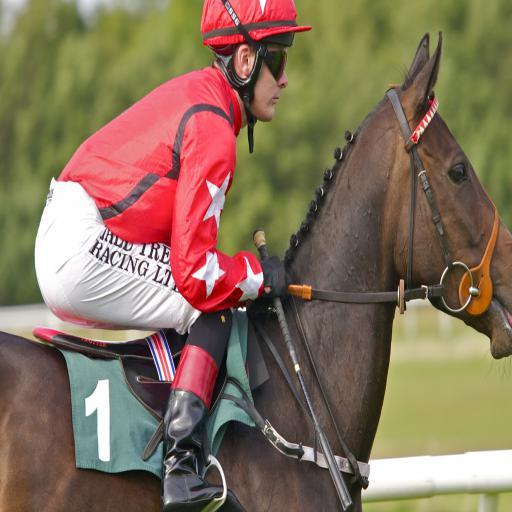Horse: (0, 30, 512, 512)
